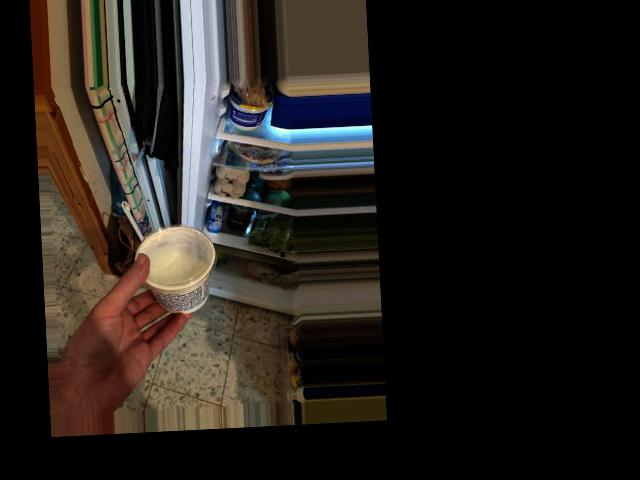cotage: (143, 227, 216, 314)
